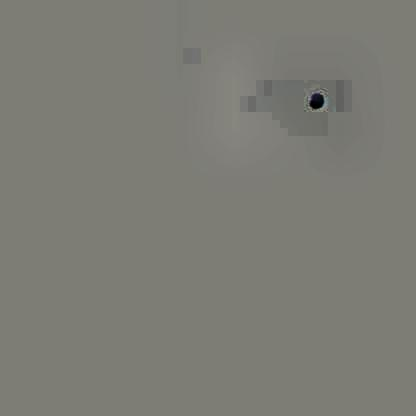golfball: (305, 90, 323, 108)
